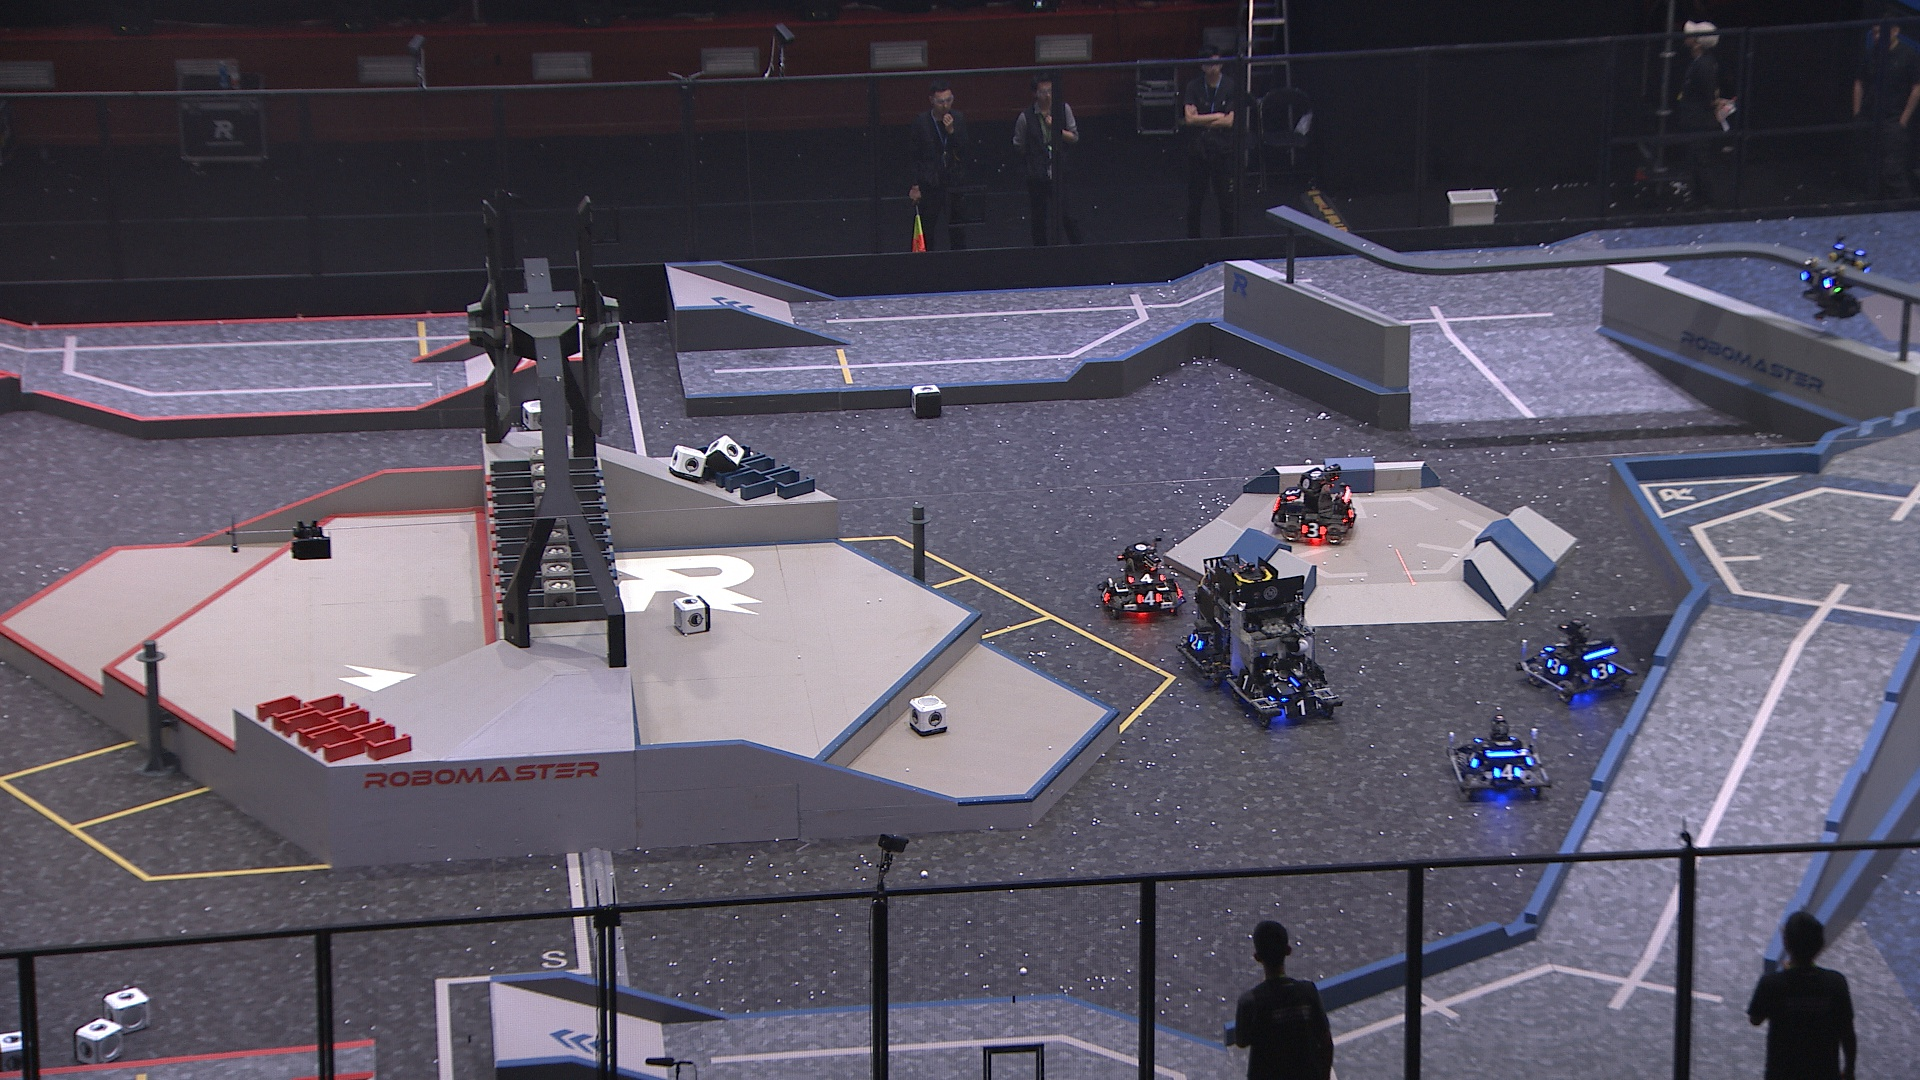armor: (1276, 676, 1313, 698), (1283, 698, 1320, 716), (1803, 270, 1833, 290), (1134, 589, 1164, 608), (1129, 570, 1167, 584), (1590, 661, 1615, 680), (1238, 673, 1257, 698), (1494, 764, 1523, 779), (1544, 657, 1567, 675), (1187, 629, 1205, 651), (1465, 746, 1482, 770), (1300, 524, 1327, 538), (1284, 484, 1302, 502), (1097, 585, 1112, 607), (1548, 640, 1567, 655), (1346, 501, 1358, 520)
car: (1224, 574, 1342, 728), (1178, 553, 1276, 684), (1518, 617, 1633, 704), (1448, 716, 1555, 802), (1269, 462, 1361, 545), (1093, 541, 1187, 622)
watcher: (1799, 237, 1873, 324)
